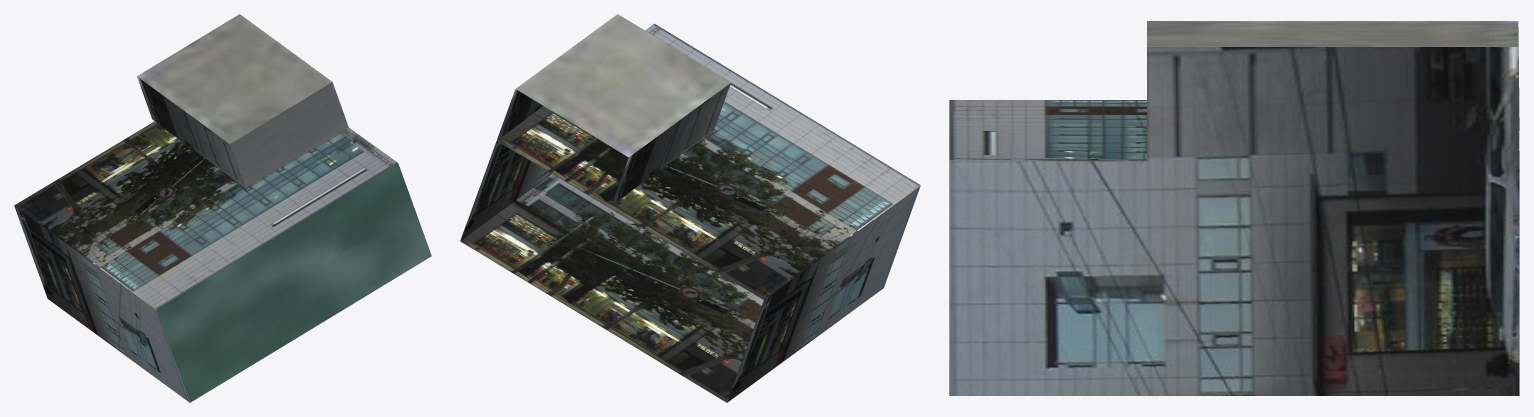
The picture shows the model from 3 angles, left to right: view 1: azimuth 30°, elevation 25°; view 2: azimuth 150°, elevation 25°; view 3: azimuth 270°, elevation 25°; orthographic projection. The views are drawn at different scales.
Parts seen in each view (by area): view 1: IndexedFaceSet__1_0, IndexedFaceSet__3_0, IndexedFaceSet__7_0, IndexedFaceSet__4_0, IndexedFaceSet__8_0, IndexedFaceSet__6_0; view 2: IndexedFaceSet__1_0, IndexedFaceSet, IndexedFaceSet__7_0, IndexedFaceSet__4_0, IndexedFaceSet__6_0, IndexedFaceSet__2_0, IndexedFaceSet__5_0; view 3: IndexedFaceSet__2_0, IndexedFaceSet__5_0, IndexedFaceSet__1_0, IndexedFaceSet__7_0.
Part boxes in pixels (box(x1,y1,x2,y2)): IndexedFaceSet__1_0: box(14, 121, 397, 309); IndexedFaceSet__3_0: box(156, 163, 431, 402); IndexedFaceSet__7_0: box(137, 14, 331, 143); IndexedFaceSet__4_0: box(14, 206, 189, 402); IndexedFaceSet__8_0: box(230, 82, 348, 187); IndexedFaceSet__6_0: box(137, 76, 245, 187); IndexedFaceSet__1_0: box(497, 23, 920, 299); IndexedFaceSet: box(460, 174, 763, 402); IndexedFaceSet__7_0: box(516, 14, 730, 157); IndexedFaceSet__4_0: box(727, 185, 920, 402); IndexedFaceSet__6_0: box(611, 83, 730, 205); IndexedFaceSet__2_0: box(460, 141, 551, 240); IndexedFaceSet__5_0: box(497, 89, 542, 139); IndexedFaceSet__2_0: box(949, 160, 1519, 395); IndexedFaceSet__5_0: box(1147, 47, 1519, 164); IndexedFaceSet__1_0: box(949, 100, 1410, 164); IndexedFaceSet__7_0: box(1147, 21, 1518, 46).
Bounding box in the file's own units: 24.94 × 20.59 × 22.36.
7 materials, 7 textured.
